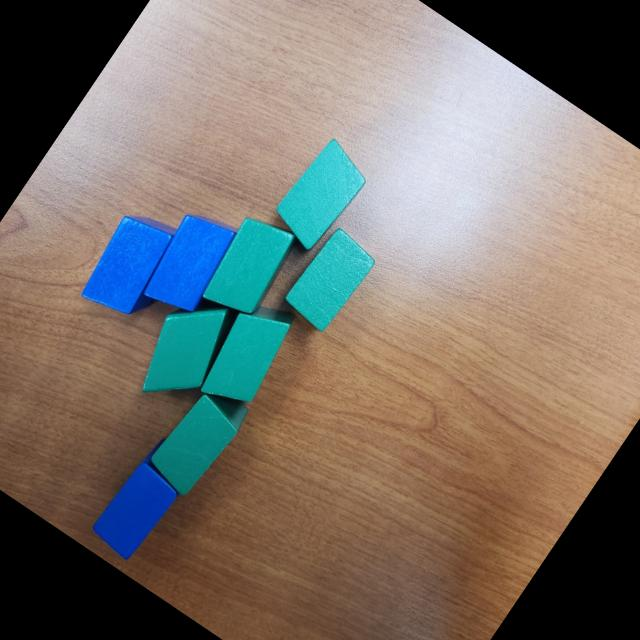blue: (72, 200, 196, 334), (88, 432, 202, 564), (135, 200, 247, 324)
green: (124, 280, 249, 418), (190, 287, 306, 419), (140, 377, 252, 502), (265, 134, 376, 258), (194, 206, 304, 328), (279, 224, 380, 337)
